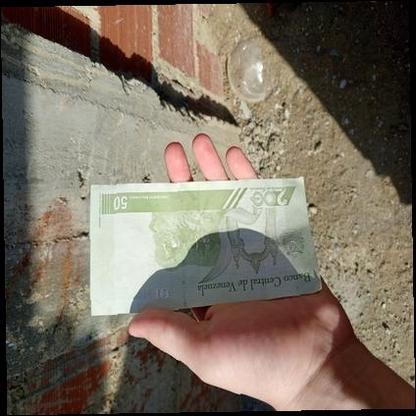fifty-back-vef: (90, 176, 324, 315)
